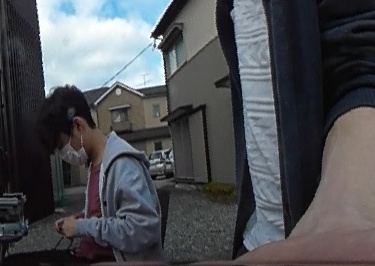person: (38, 82, 156, 266)
